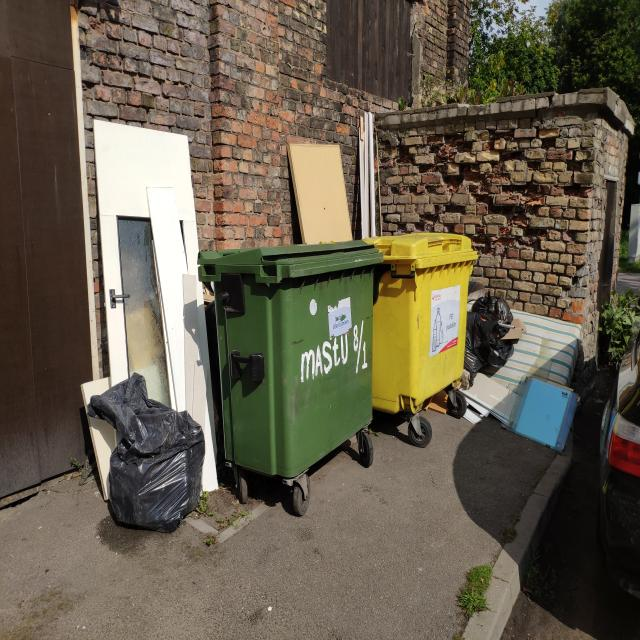entulho: (91, 118, 220, 502), (286, 143, 351, 243), (353, 112, 383, 238)
lixo domiciliar: (84, 362, 208, 527), (464, 294, 515, 388)
